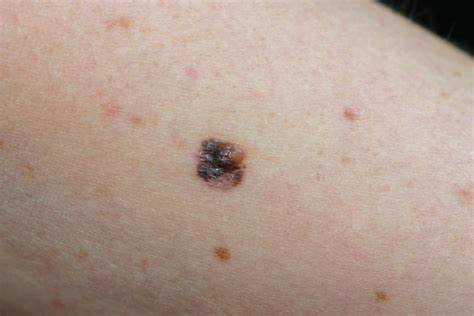melanoma: (177, 120, 272, 201)
